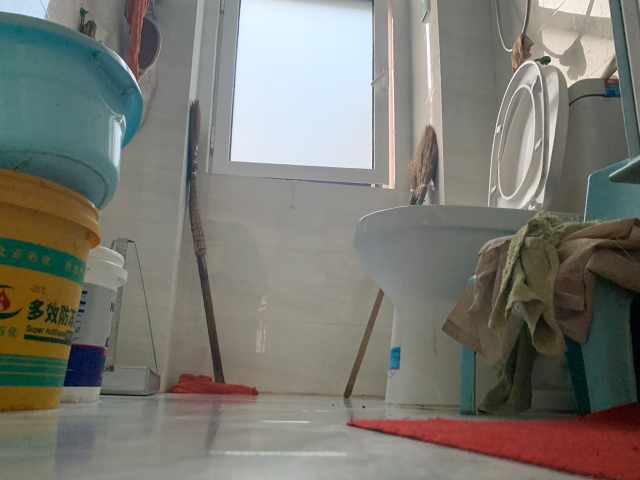carpet: (344, 399, 639, 480)
closestool: (352, 58, 630, 409)
stool: (439, 157, 640, 417)
